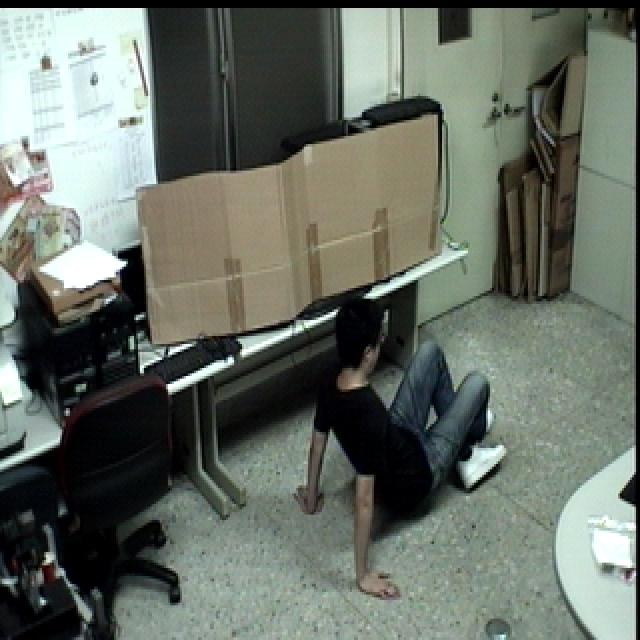sit: (295, 291, 512, 602)
